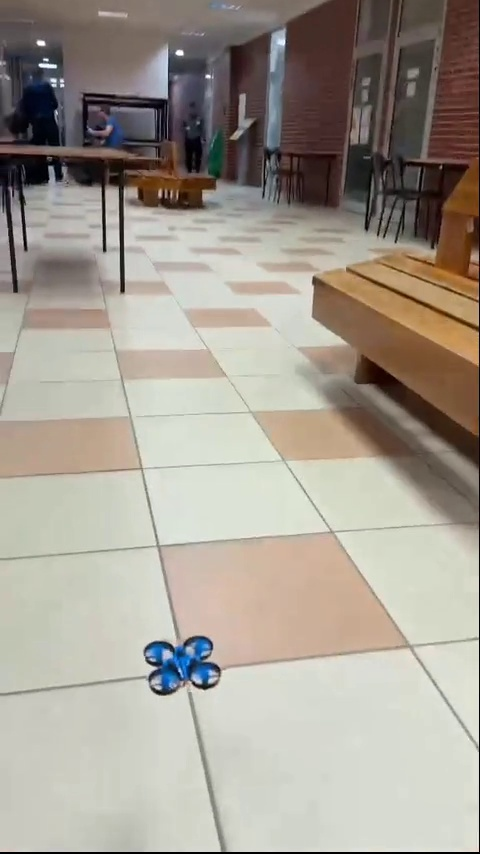drone: (144, 640, 228, 700)
no vest: (14, 66, 68, 144), (80, 96, 128, 162), (180, 96, 206, 171)
